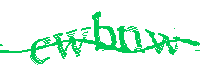b: (91, 11, 117, 52)
c: (28, 35, 52, 66)
n: (117, 23, 145, 54)
w: (52, 27, 91, 60), (145, 27, 180, 55)
